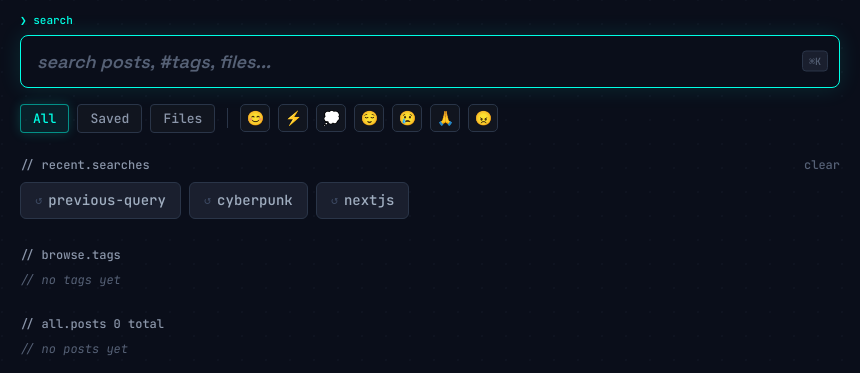
it: SearchPage (T-351 rewrite, FR-12.8-.12) › T-351.8 recent.searches localStorage: pre-seeded → render trong empty section + clear works
The width and height of the screenshot is (860, 373).
Check: the element with test id "empty-recent-searches" is shown, box [20, 157, 840, 219]
Check: the button "↺ previous-query" is shown, box [20, 182, 181, 219]
Click the button with test id "empty-recent-clear" at (822, 165), box [804, 157, 840, 174]
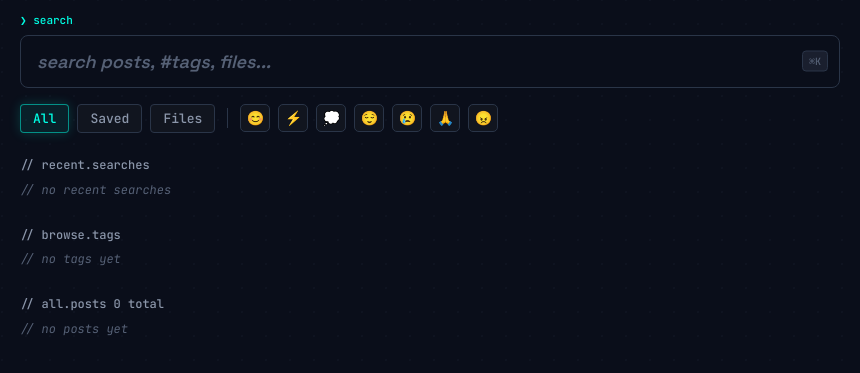
Check: the button "previous-query" is gone
